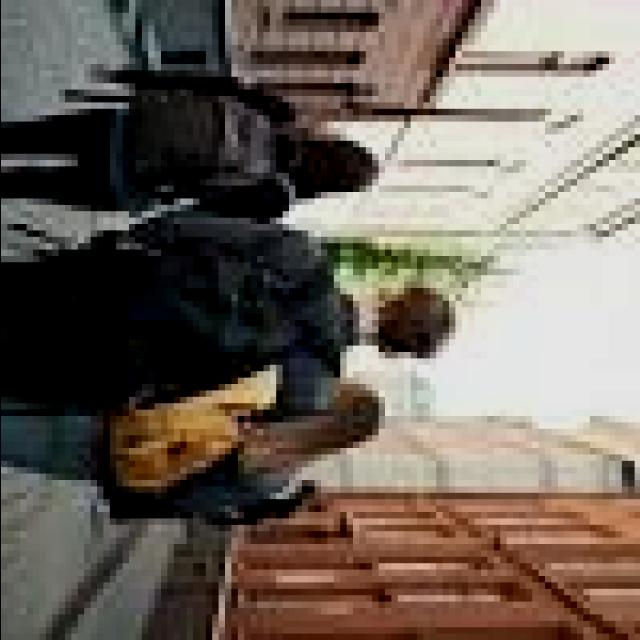backpack: (37, 233, 295, 424), (109, 88, 285, 211), (95, 387, 237, 515)
